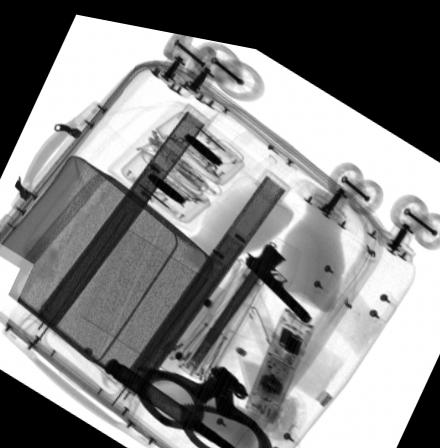Baton: (243, 296, 314, 413)
Bullet: (100, 352, 243, 448)
Gun: (244, 231, 311, 311)
HandCuffs: (135, 354, 274, 448)
